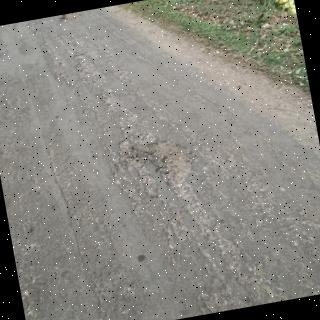pothole: (113, 133, 197, 190)
